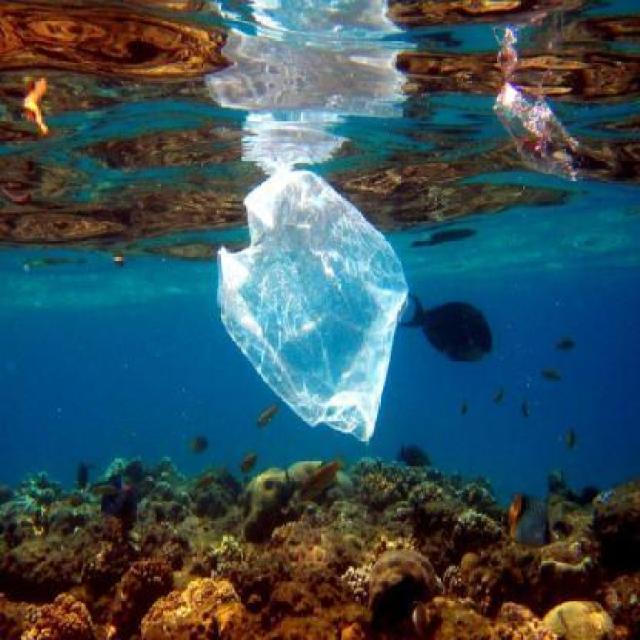plastic bag: (220, 172, 413, 444)
